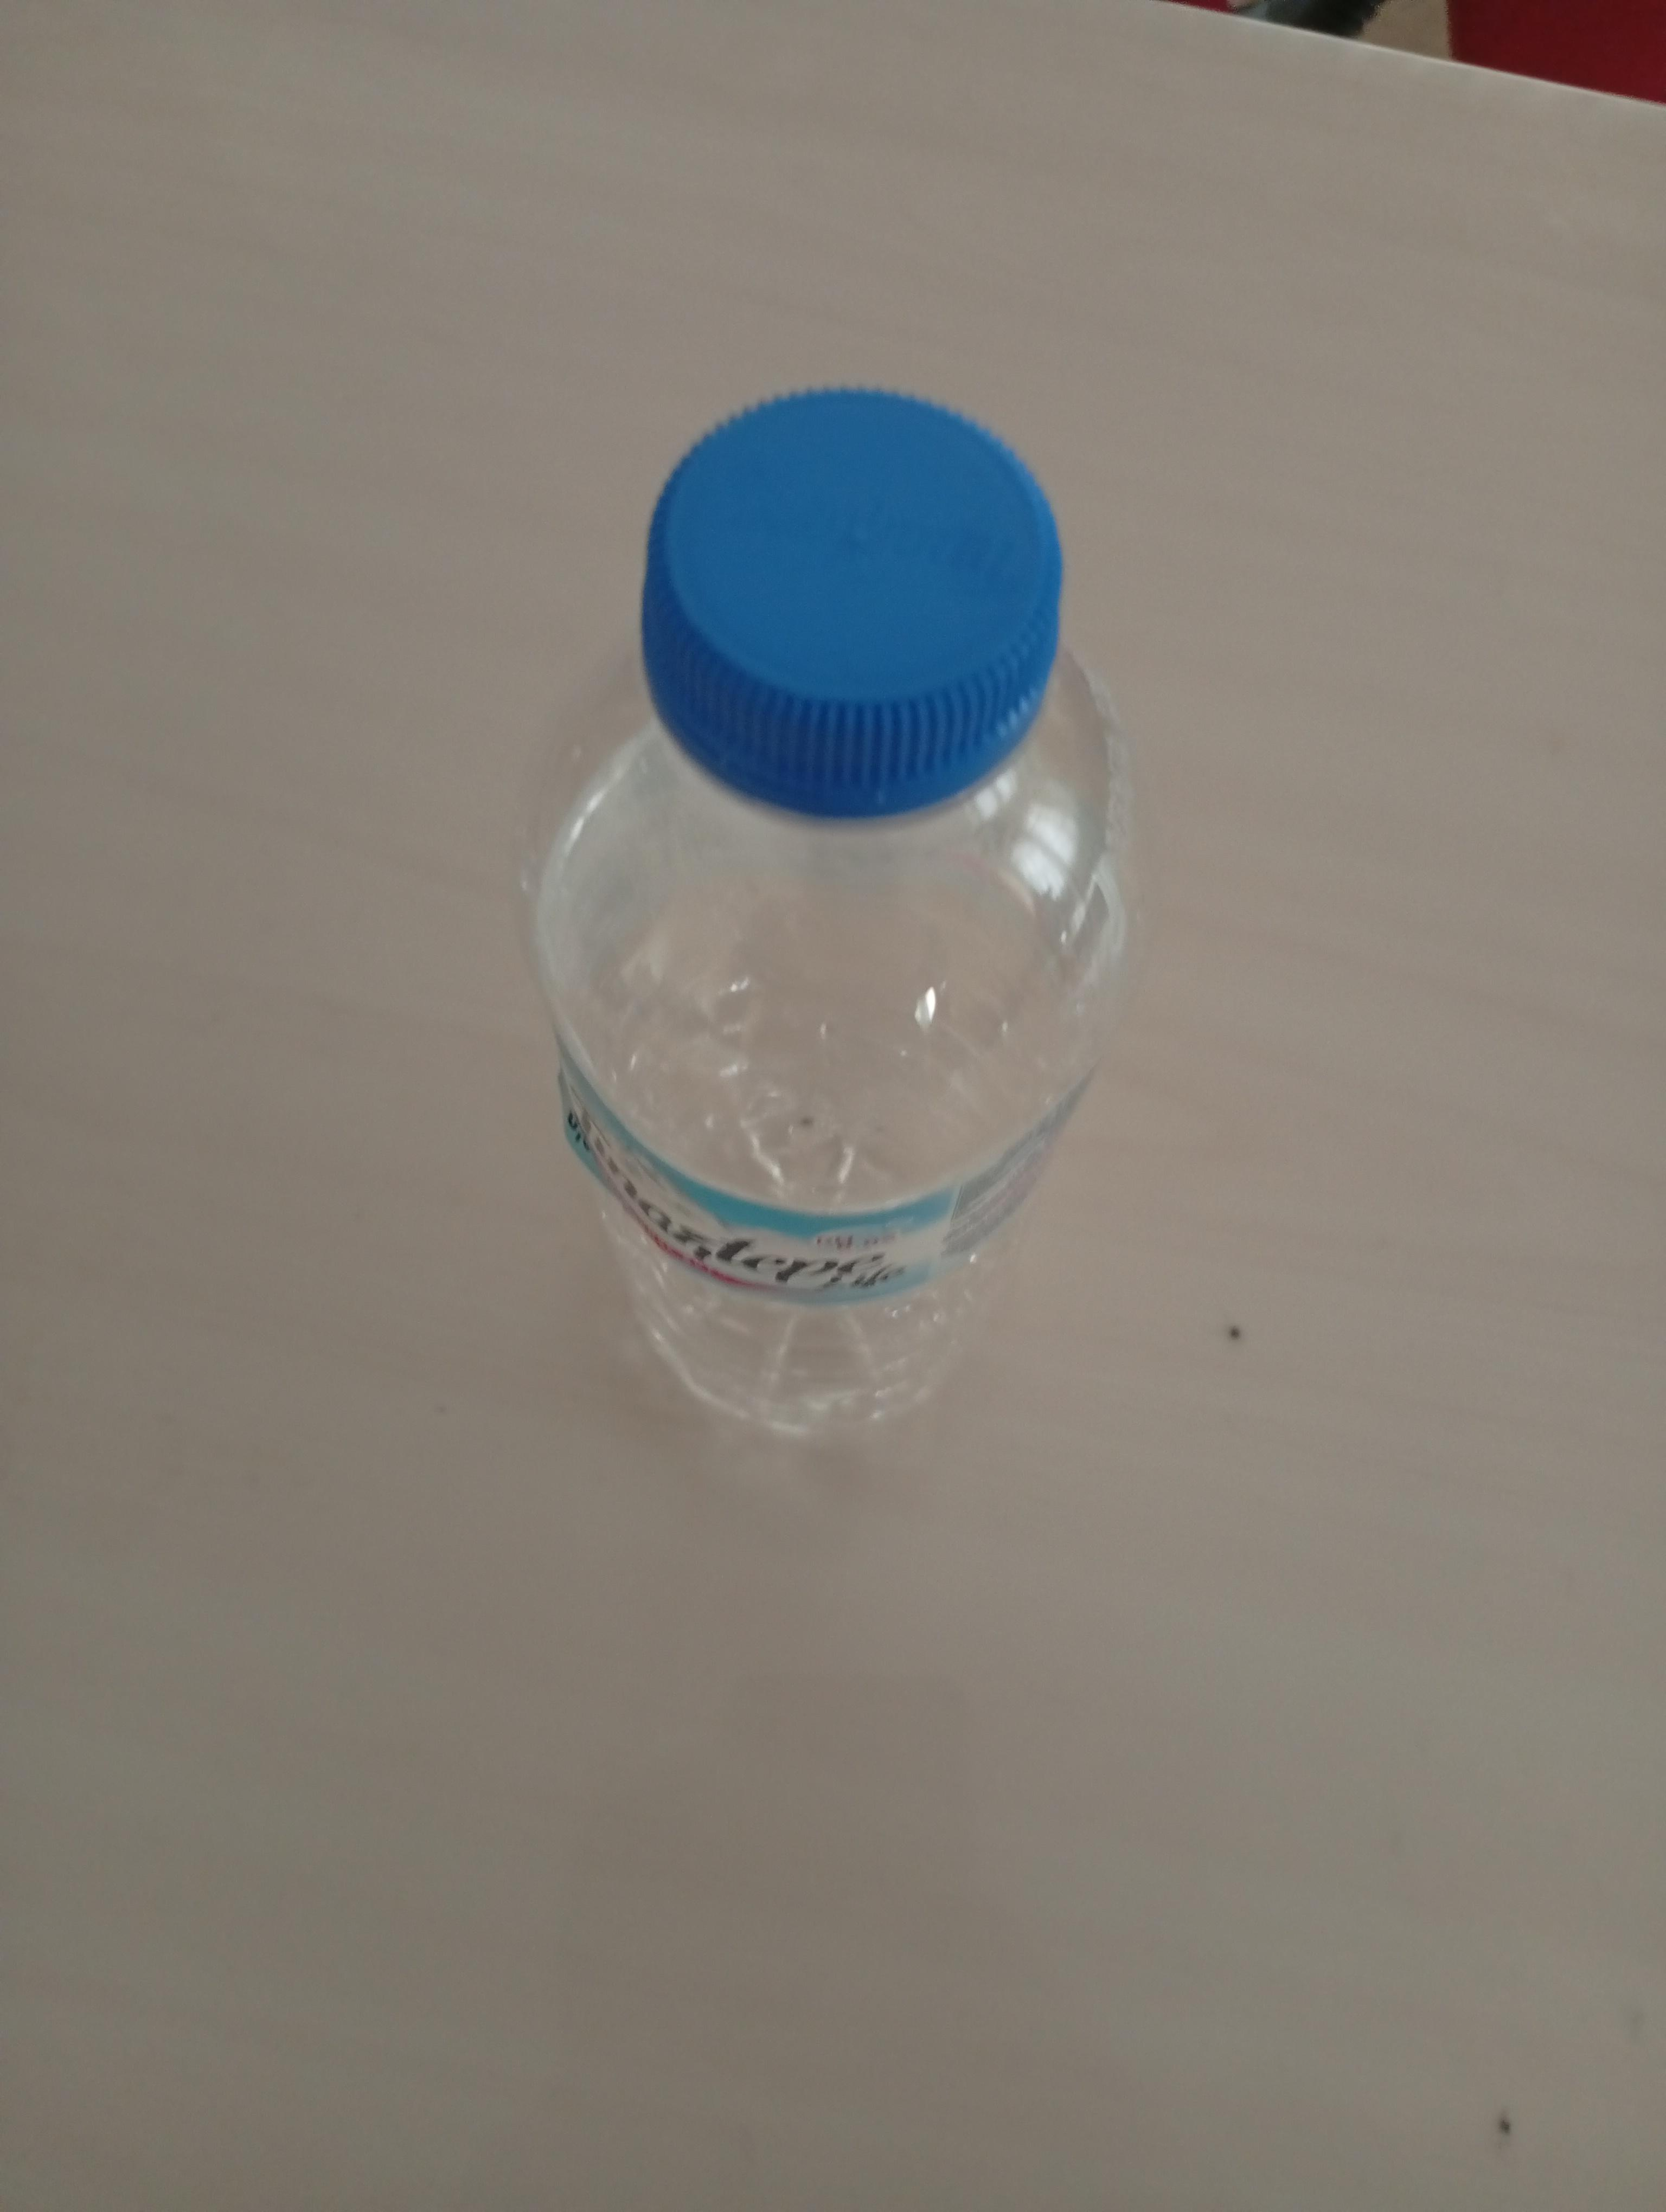etiketli: (502, 344, 1179, 1528)
